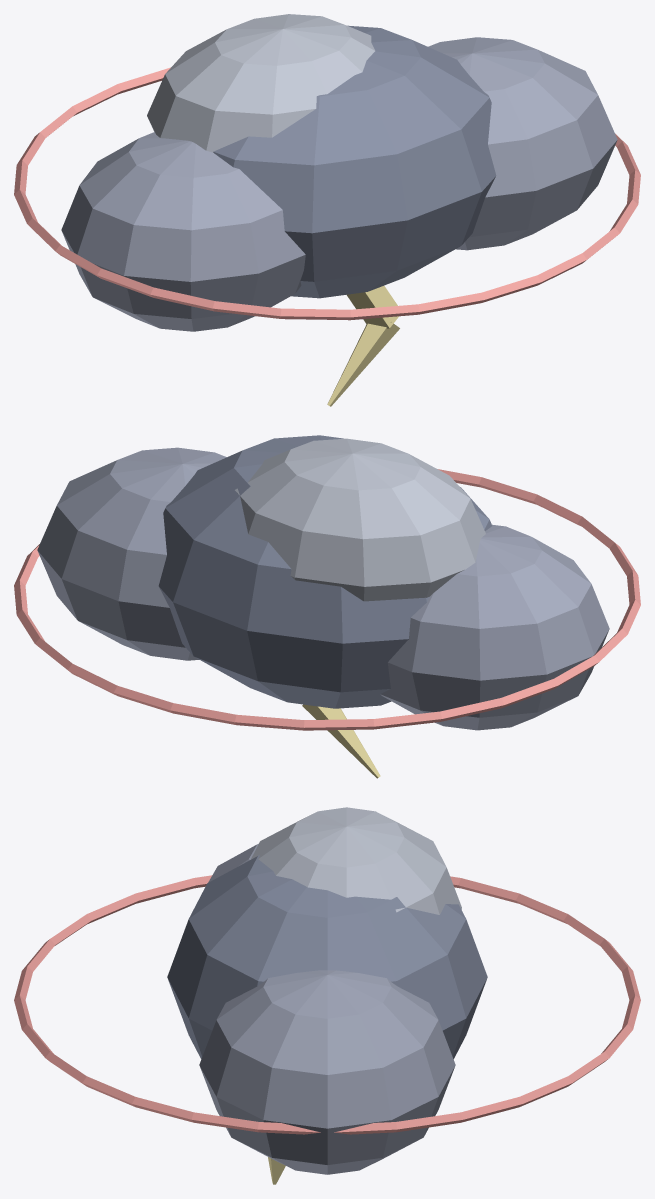
The model's file is nube_tormenta.glb.
3 renders of one model, top to bottom at view 1: azimuth 30°, elevation 25°; view 2: azimuth 150°, elevation 25°; view 3: azimuth 270°, elevation 25°, orthographic.
Parts seen in each view (by area): view 1: nube_tormenta; view 2: nube_tormenta; view 3: nube_tormenta.
Part boxes in pixels (x1=…): nube_tormenta: x1=14, y1=14, x2=640, y2=406; nube_tormenta: x1=14, y1=435, x2=640, y2=778; nube_tormenta: x1=14, y1=807, x2=640, y2=1184.
Bounding box in the file's own units: 3.94 × 2.43 × 3.91.
